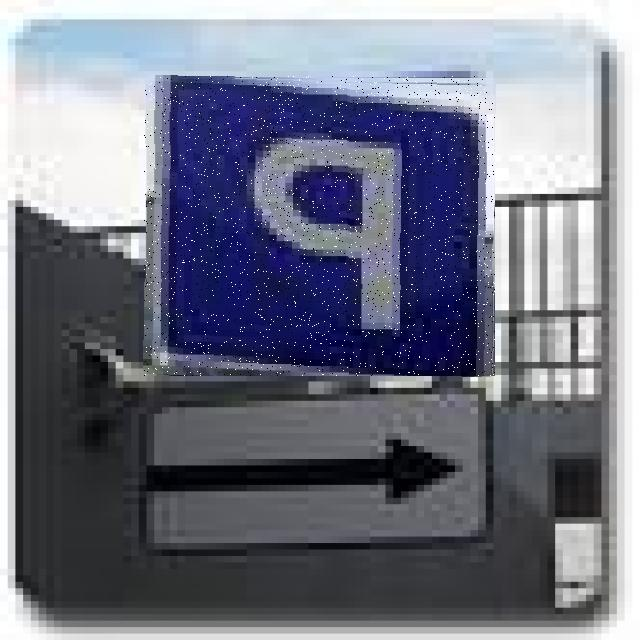parking: (144, 76, 495, 376)
